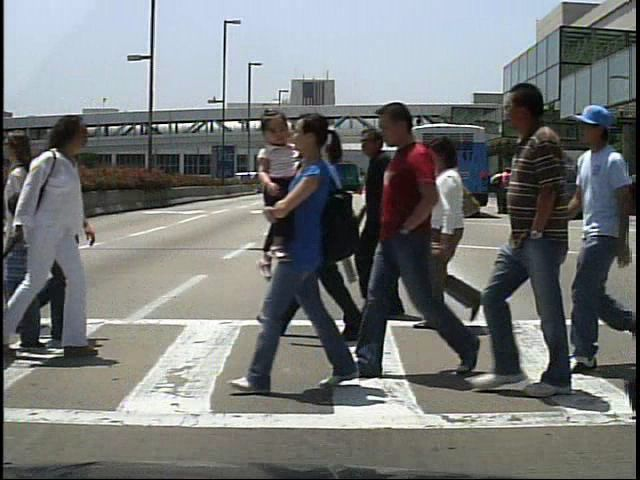person: (490, 84, 589, 412), (0, 113, 109, 362), (375, 97, 471, 374), (273, 121, 375, 347), (568, 101, 640, 375), (417, 138, 497, 339), (347, 130, 419, 322), (582, 168, 602, 218), (506, 166, 526, 215), (497, 165, 512, 215)
